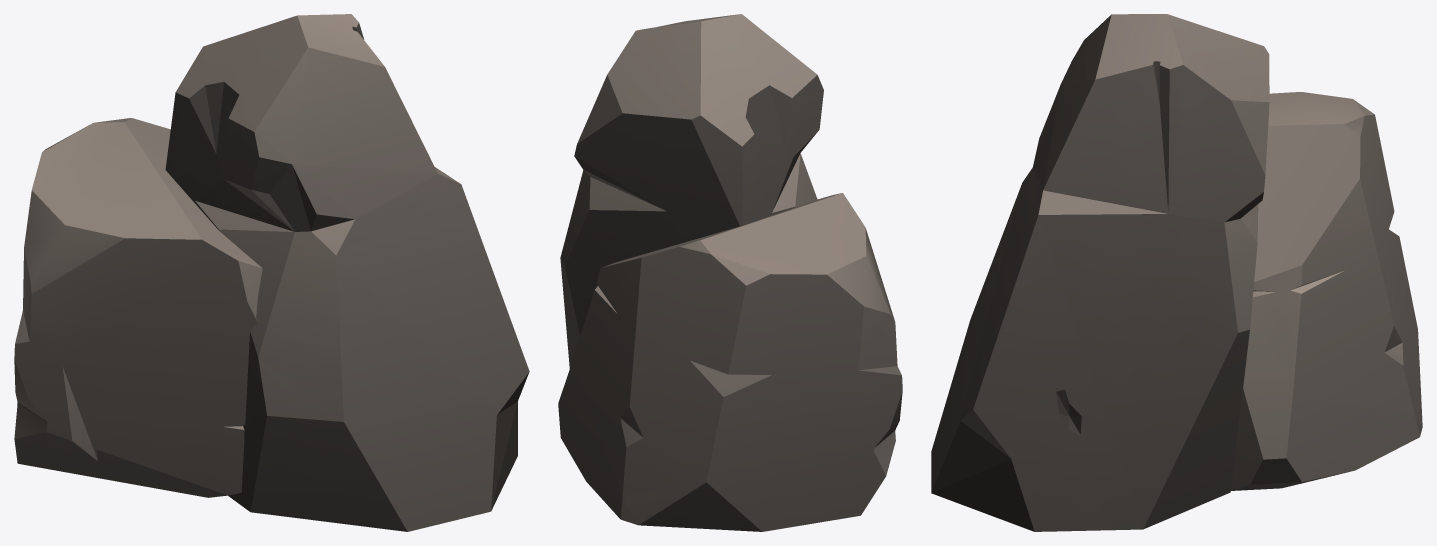
Rendered from Rock_Large_4A.fbx.
The picture shows the model from 3 angles, left to right: view 1: azimuth 30°, elevation 25°; view 2: azimuth 150°, elevation 25°; view 3: azimuth 270°, elevation 25°; orthographic projection. The views are drawn at different scales.
Parts seen in each view (by area): view 1: Rock_Large_4A; view 2: Rock_Large_4A; view 3: Rock_Large_4A.
Part boxes in pixels (<box>): Rock_Large_4A: <box>14,14,529,531</box>; Rock_Large_4A: <box>558,14,902,531</box>; Rock_Large_4A: <box>931,14,1422,531</box>.
Size of the model in its own units: 456 by 466 by 469.
